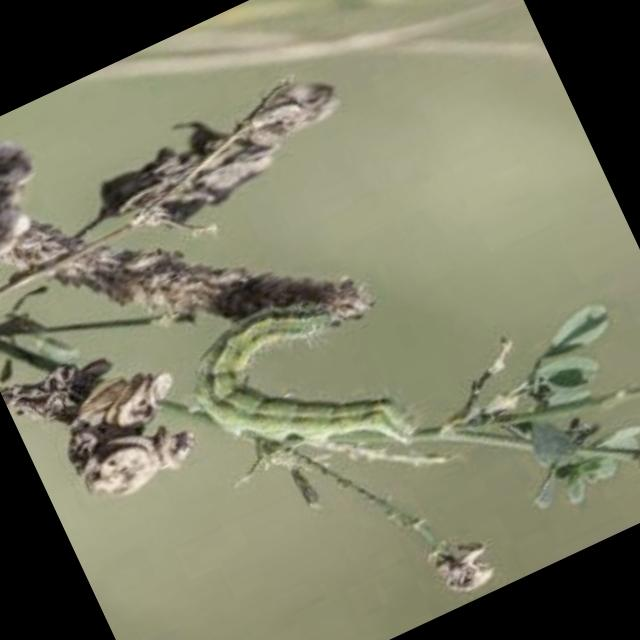Cotton bollworm: (148, 238, 459, 554)
